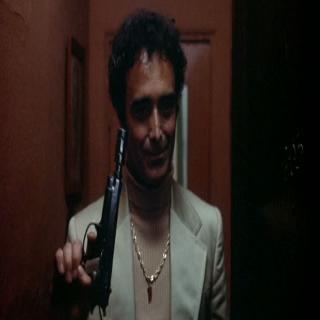gun: (54, 126, 128, 315)
